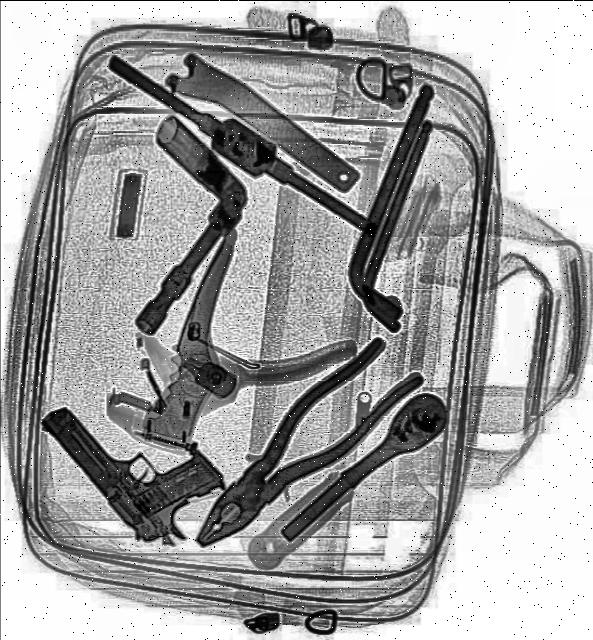Gun: (42, 353, 240, 559)
Pliers: (172, 324, 429, 564)
